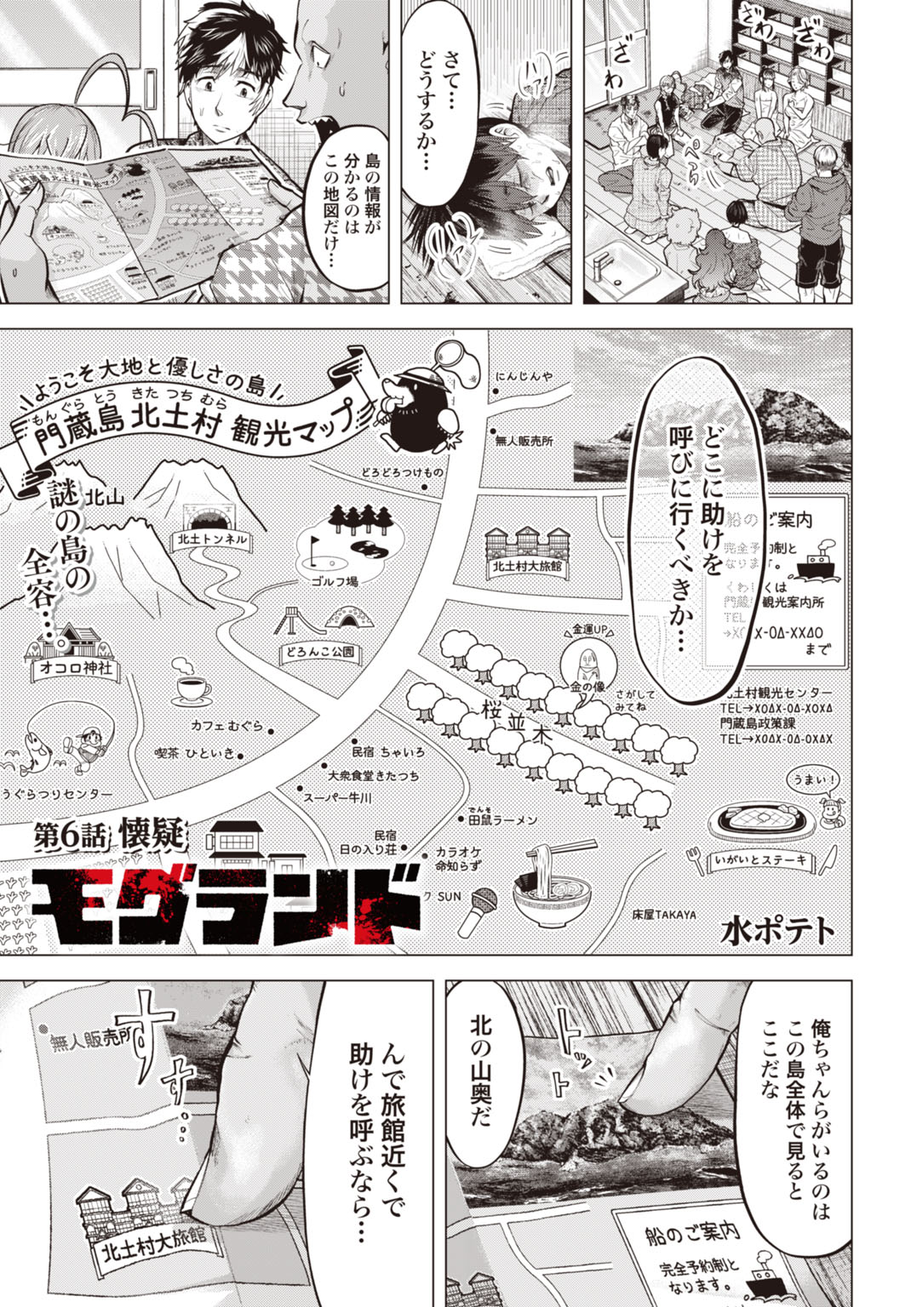bubbles: (625, 351, 771, 714), (301, 982, 433, 1307), (731, 980, 852, 1266), (447, 980, 535, 1174), (297, 117, 392, 296), (404, 1, 486, 208)
